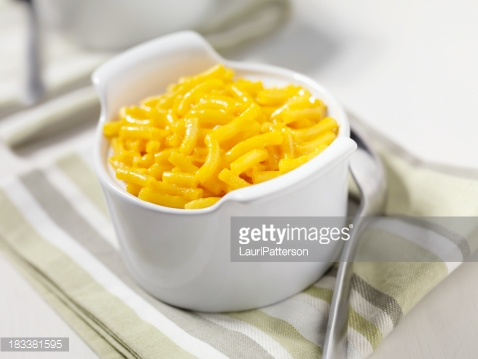macncheese: (95, 58, 339, 213)
